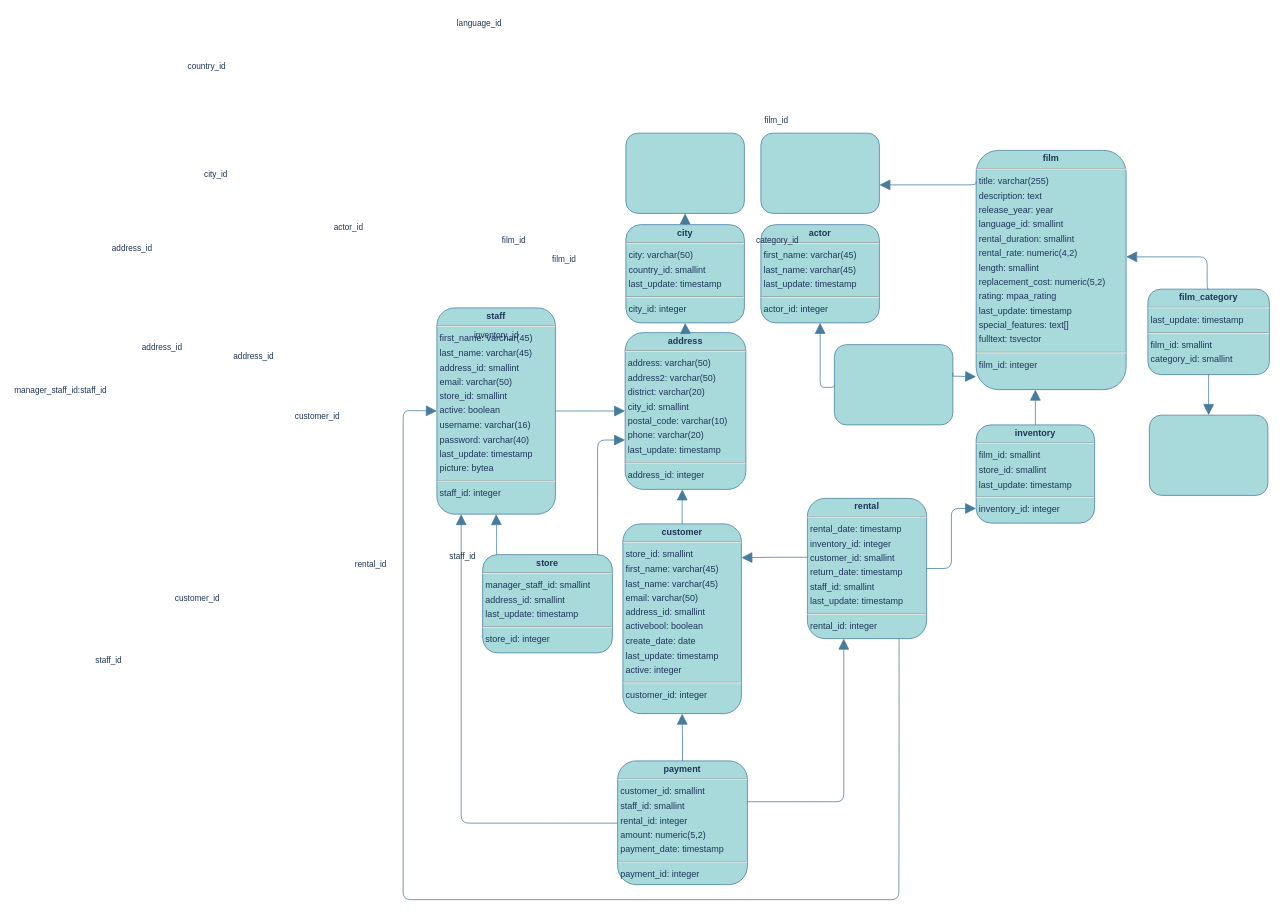
Image size: 1283x923. Some labels were removed from this diagram. The centre of each missing label's shape, as x and y in pixels:
"category name: varchar(25) last_update: timestamp category_id: integer" belongs at pixel 1208 454.
"country country: varchar(50) last_update: timestamp country_id: integer" belongs at pixel 684 172.
"film_actor last_update: timestamp actor_id: smallint film_id: smallint" belongs at pixel 893 384.
"language name: char(20) last_update: timestamp language_id: integer" belongs at pixel 819 172.
